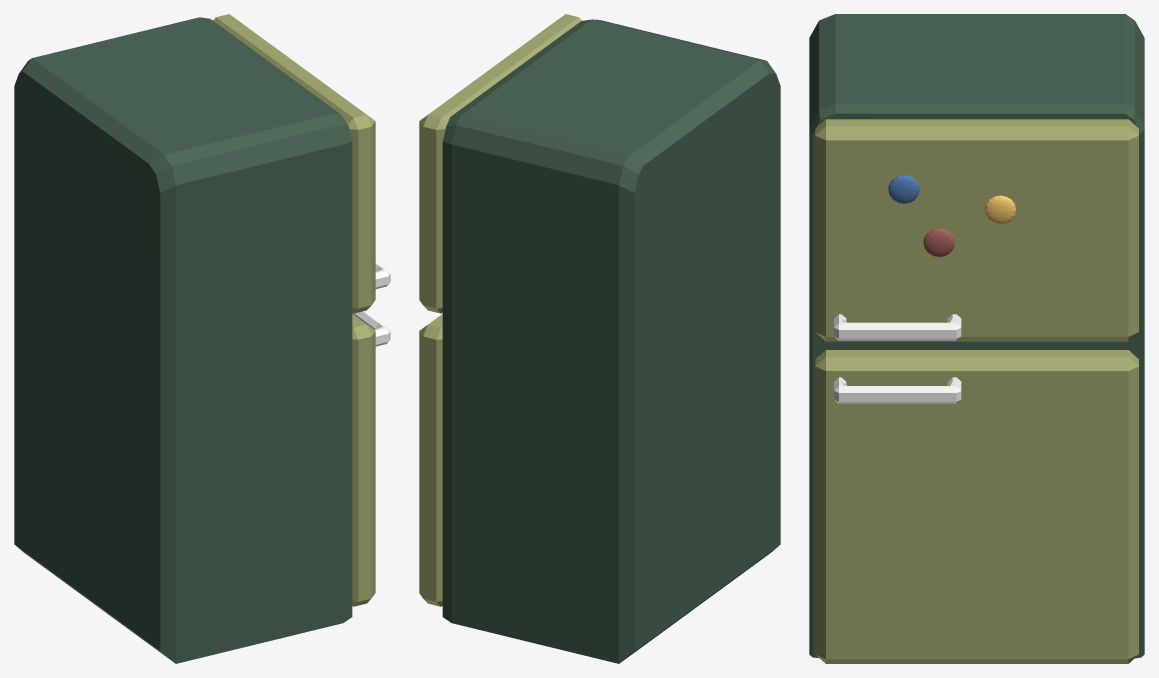
The model's file is Kitchen_Fridge.fbx.
3 renders of one model, left to right at view 1: azimuth 30°, elevation 25°; view 2: azimuth 150°, elevation 25°; view 3: azimuth 270°, elevation 25°, orthographic. The views are drawn at different scales.
Visible parts, largest first — view 1: Kitchen_Fridge.002, Kitchen_Fridge.005, Kitchen_Fridge; view 2: Kitchen_Fridge.002, Kitchen_Fridge.005; view 3: Kitchen_Fridge.005, Kitchen_Fridge.002, Kitchen_Fridge, Kitchen_Fridge.001, Kitchen_Fridge.003, Kitchen_Fridge.004.
Part boxes in pixels (x1=…): Kitchen_Fridge.002: x1=14, y1=17, x2=352, y2=663; Kitchen_Fridge.005: x1=213, y1=14, x2=375, y2=606; Kitchen_Fridge: x1=352, y1=263, x2=390, y2=346; Kitchen_Fridge.002: x1=442, y1=19, x2=780, y2=663; Kitchen_Fridge.005: x1=419, y1=14, x2=581, y2=606; Kitchen_Fridge.005: x1=815, y1=119, x2=1138, y2=663; Kitchen_Fridge.002: x1=809, y1=14, x2=1144, y2=658; Kitchen_Fridge: x1=834, y1=314, x2=961, y2=403; Kitchen_Fridge.001: x1=984, y1=195, x2=1016, y2=224; Kitchen_Fridge.003: x1=888, y1=175, x2=919, y2=203; Kitchen_Fridge.004: x1=923, y1=228, x2=954, y2=257.
Size of the model in its own units: 86.07 by 171 by 94.5.
